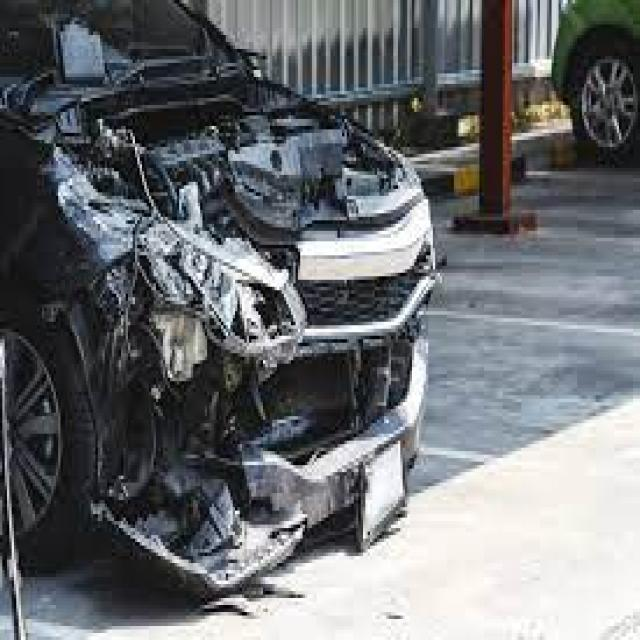severe: (27, 62, 454, 576)
